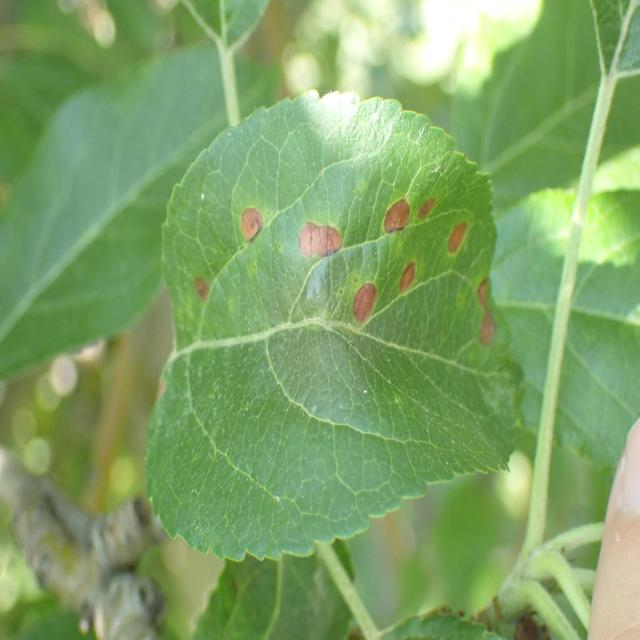Black Rot: (280, 206, 346, 270), (472, 272, 509, 364), (229, 190, 272, 258), (347, 265, 384, 342), (382, 172, 412, 255), (412, 182, 448, 240), (393, 250, 422, 309), (444, 220, 474, 271), (192, 266, 221, 315)
